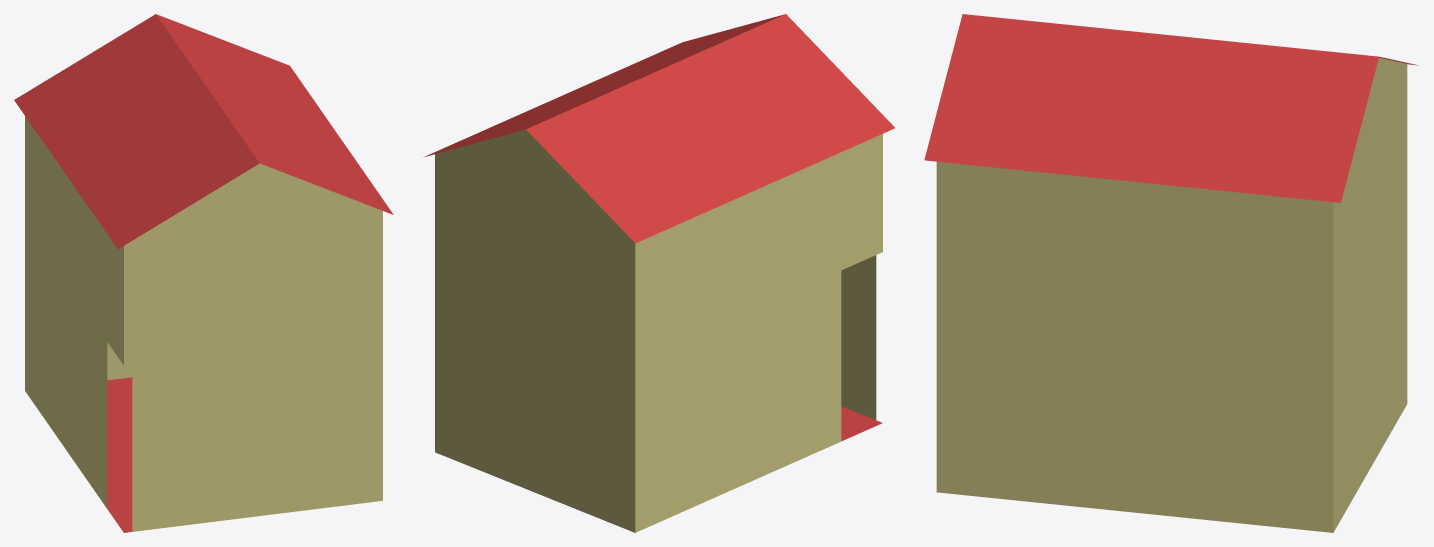
3 views of the same model, side by side, from view 1: azimuth 30°, elevation 25°; view 2: azimuth 150°, elevation 25°; view 3: azimuth 270°, elevation 25° (orthographic). The views are drawn at different scales.
Bounding box in the file's own units: 10.47 × 12.18 × 11.25.
